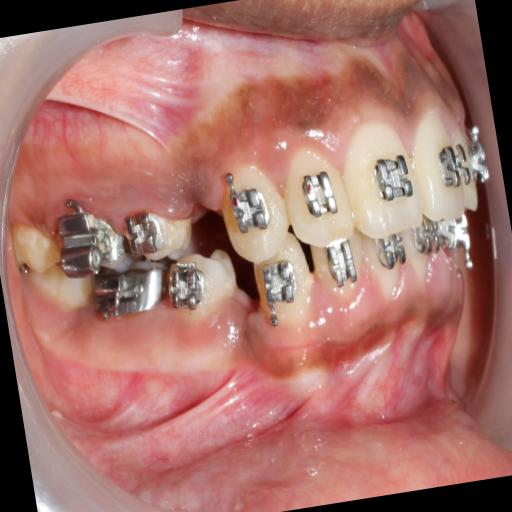correct_brace: (164, 250, 240, 320), (120, 201, 196, 266), (222, 167, 273, 237), (369, 141, 416, 215), (296, 164, 340, 226), (168, 259, 210, 315)
incorrect_brace: (278, 144, 355, 248), (124, 210, 167, 261)
